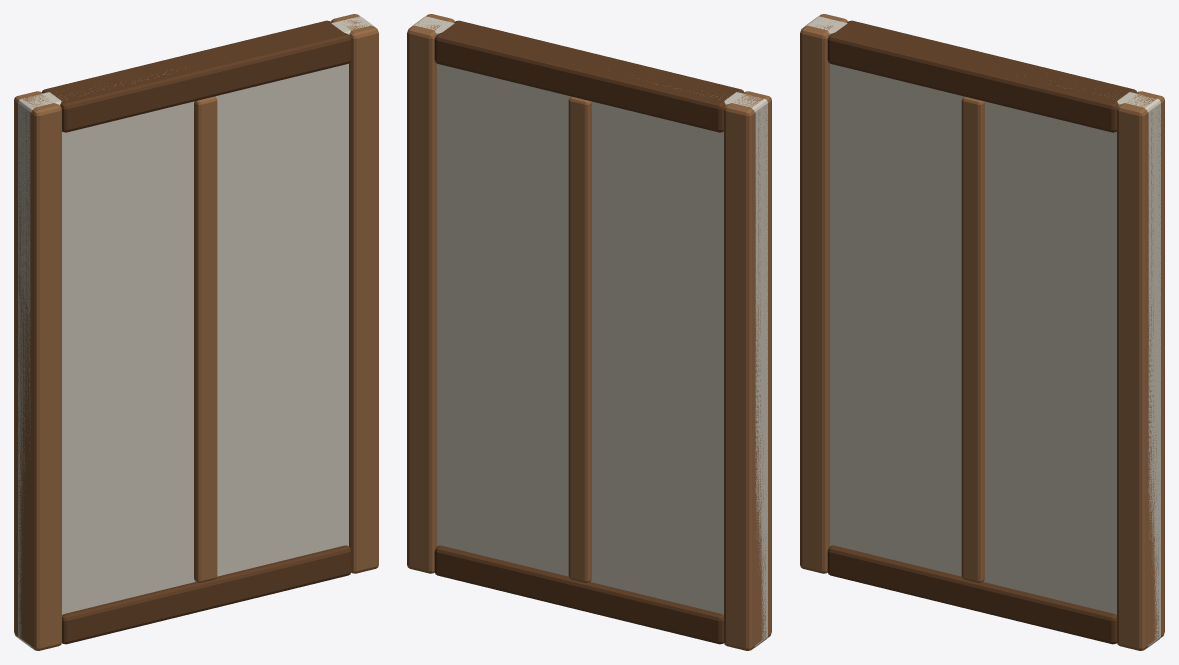
Rendered from wall_half_2x3.glb.
3 views of the same model, side by side, from view 1: azimuth 30°, elevation 25°; view 2: azimuth 150°, elevation 25°; view 3: azimuth 330°, elevation 25° (orthographic).
Parts seen in each view (by area): view 1: wall_half_plaster, wall_half_left_post, wall_half_right_post, wall_half_top_rail, wall_half_center_post, wall_half_bottom_rail; view 2: wall_half_plaster, wall_half_left_post, wall_half_right_post, wall_half_top_rail, wall_half_center_post, wall_half_bottom_rail; view 3: wall_half_plaster, wall_half_right_post, wall_half_left_post, wall_half_top_rail, wall_half_center_post, wall_half_bottom_rail.
Part boxes in pixels (bbox=[...]): wall_half_plaster: bbox=[18, 16, 373, 647]; wall_half_left_post: bbox=[14, 91, 61, 650]; wall_half_right_post: bbox=[331, 14, 378, 573]; wall_half_top_rail: bbox=[42, 20, 351, 132]; wall_half_center_post: bbox=[194, 96, 217, 582]; wall_half_bottom_rail: bbox=[62, 545, 351, 644]; wall_half_plaster: bbox=[412, 16, 767, 647]; wall_half_left_post: bbox=[724, 91, 771, 650]; wall_half_right_post: bbox=[407, 14, 454, 573]; wall_half_top_rail: bbox=[434, 20, 743, 132]; wall_half_center_post: bbox=[568, 96, 591, 582]; wall_half_bottom_rail: bbox=[434, 545, 723, 644]; wall_half_plaster: bbox=[805, 16, 1160, 647]; wall_half_right_post: bbox=[1117, 91, 1164, 650]; wall_half_left_post: bbox=[800, 14, 847, 573]; wall_half_top_rail: bbox=[827, 20, 1136, 132]; wall_half_center_post: bbox=[961, 96, 984, 582]; wall_half_bottom_rail: bbox=[827, 545, 1116, 644].
Size of the model in its own units: 2 by 3 by 0.24.
